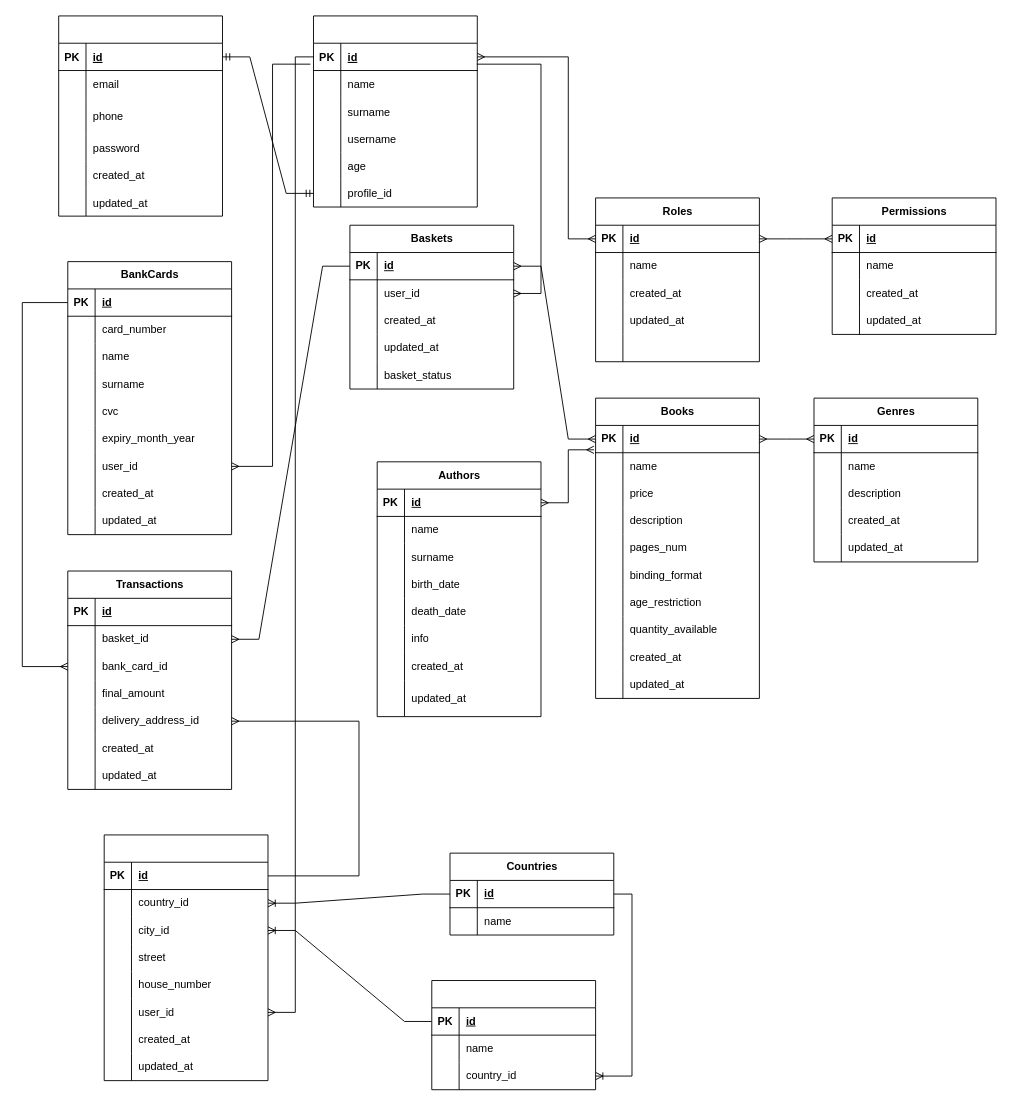
Image size: 1012x1106. Some labels were removed from this diagram. The shapes that lost their labels are listed below. From the top down, each one's box as (x1, y1, x2, y2) in pixels, then its label:
(58, 15, 222, 216): Profile
(313, 15, 477, 207): Users
(103, 834, 268, 1081): Addresses
(431, 980, 596, 1090): Cities
